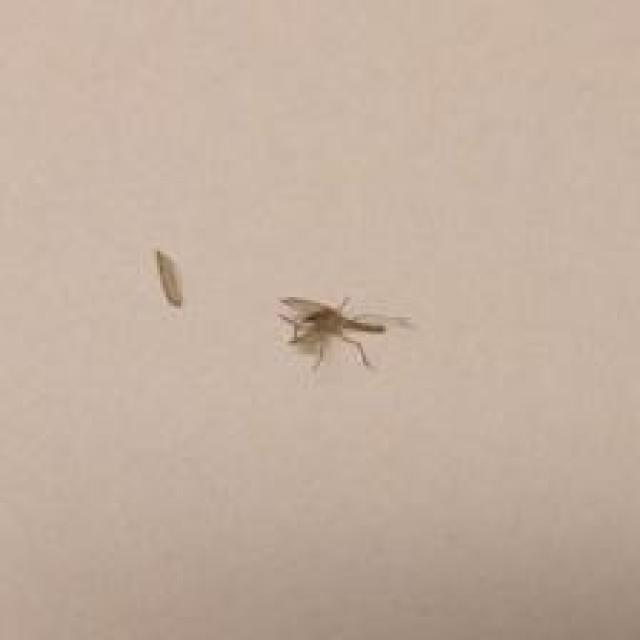Culex: (274, 293, 412, 373)
